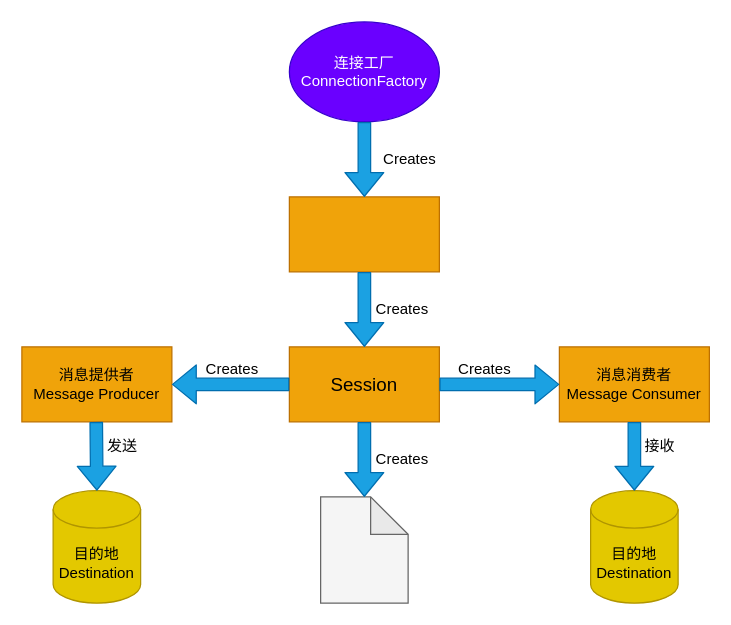
This 731x625 diagram has some shape labels left out. The centre of each missing label's shape, as x and y in pixels:
"Message 消息" belongs at (x=363, y=549).
"连接 Connection" belongs at (x=363, y=234).
